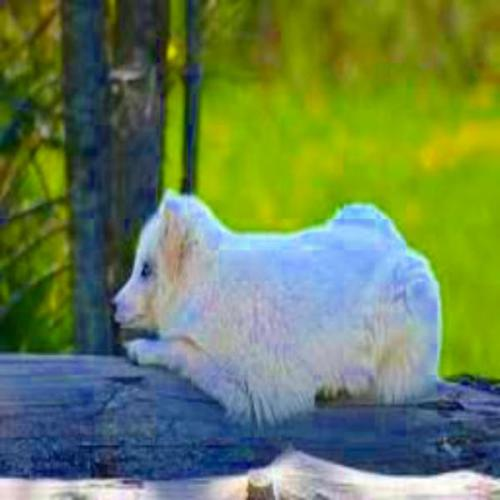arctic_fox-endangered: (111, 187, 443, 424)
